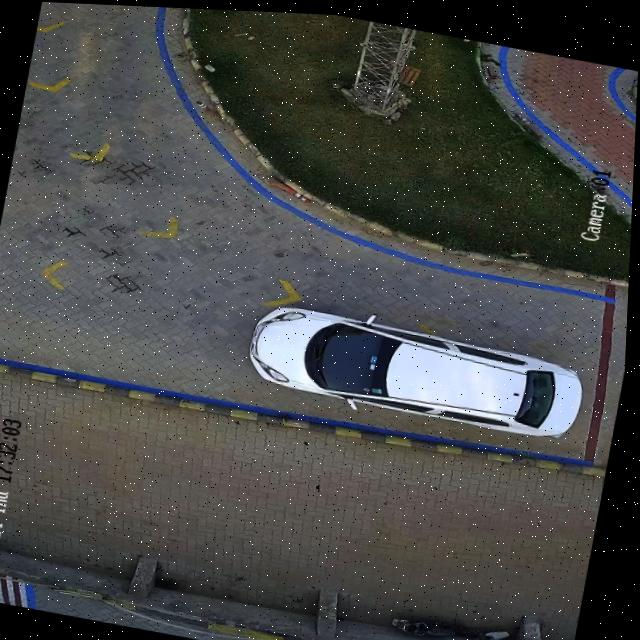car: (253, 303, 585, 432)
